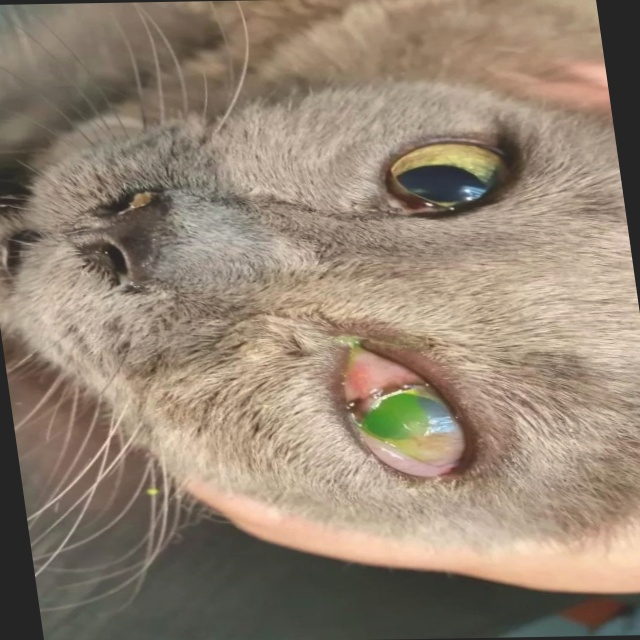eye_infection: (350, 353, 480, 481), (369, 138, 525, 218)
